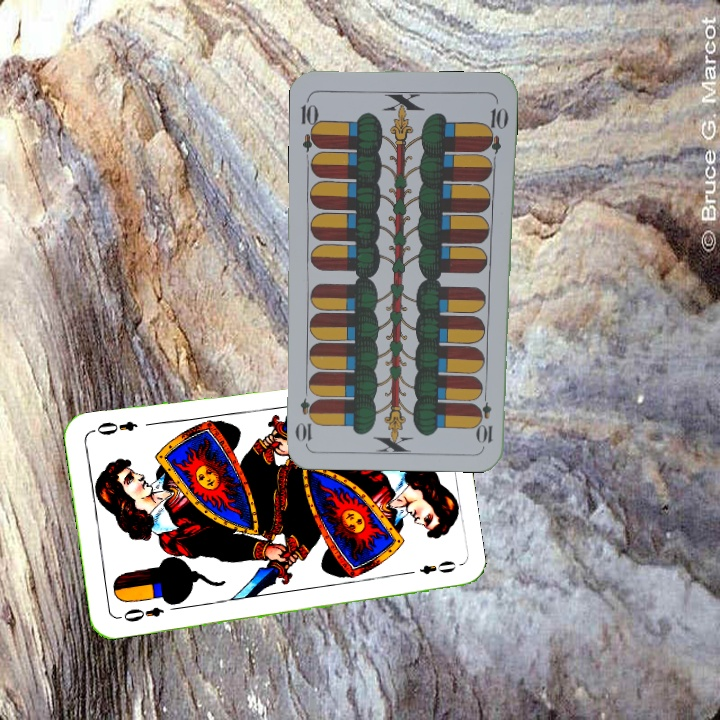E10: (297, 94, 323, 153), (477, 387, 495, 446)
EO: (114, 602, 166, 625)
